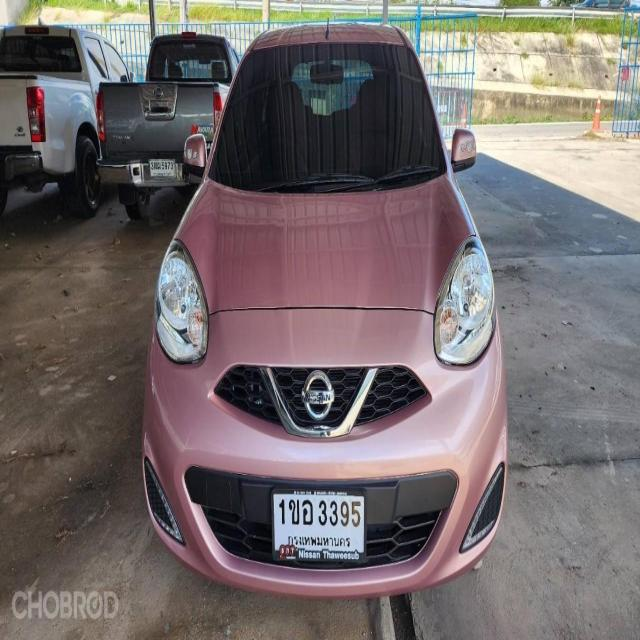license_plate: (265, 484, 372, 574)
